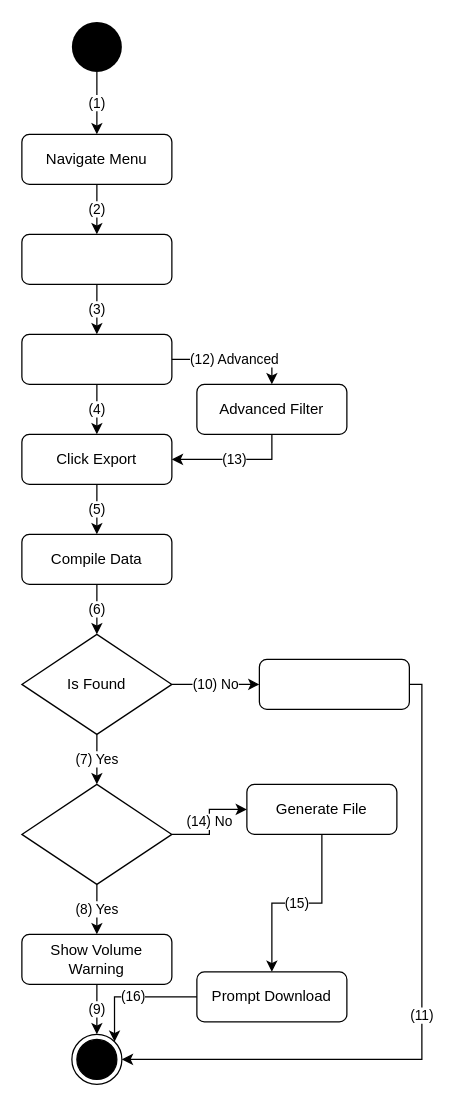
Image size: 455x1106. Some labels were removed from this diagram. The centre of each missing label's shape, as x and y in pixels:
Apply Filters: (96,358)
Is Volume Exceeded: (96,833)
Select Semester: (96,258)
Show Warning: (333,683)
